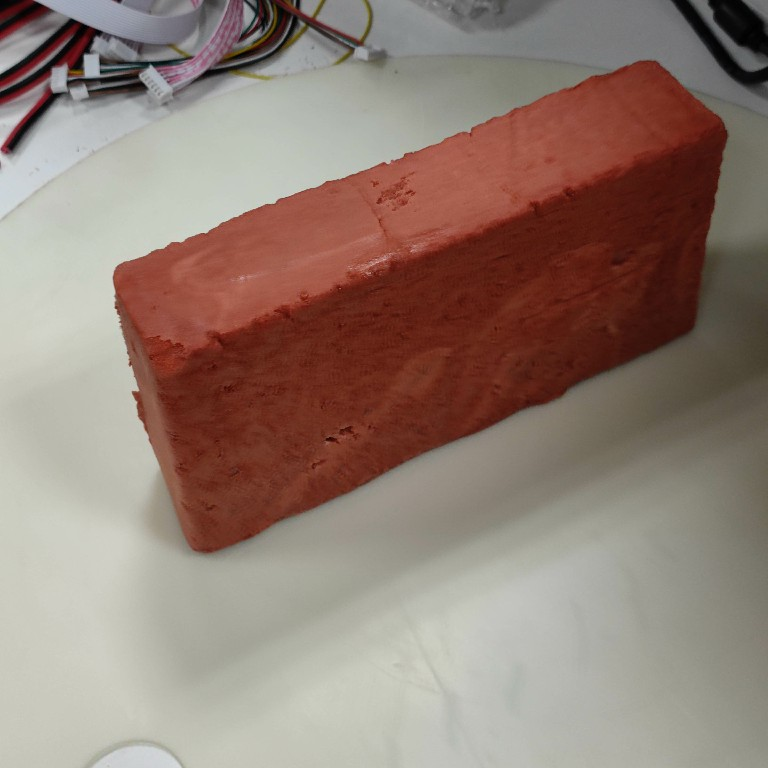brick: (103, 54, 731, 562)
